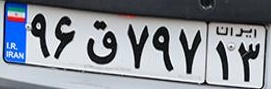character: (83, 16, 119, 67), (176, 23, 204, 77), (52, 11, 79, 63), (124, 20, 150, 70), (236, 37, 262, 85), (150, 23, 175, 72), (28, 11, 51, 60), (215, 38, 231, 83)
